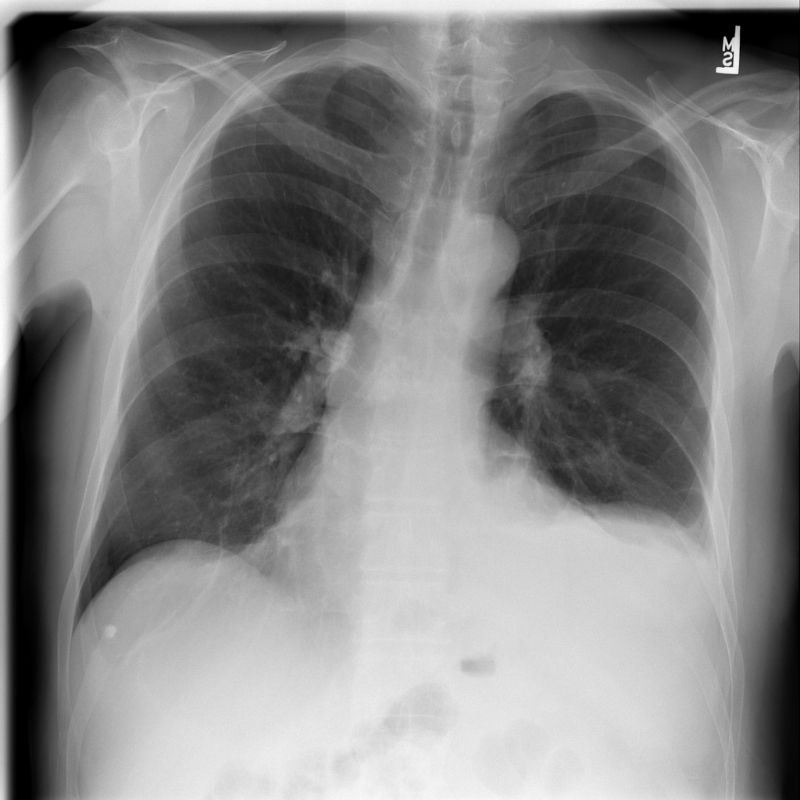PLEURAL EFFUSION: (637, 508, 726, 621)
